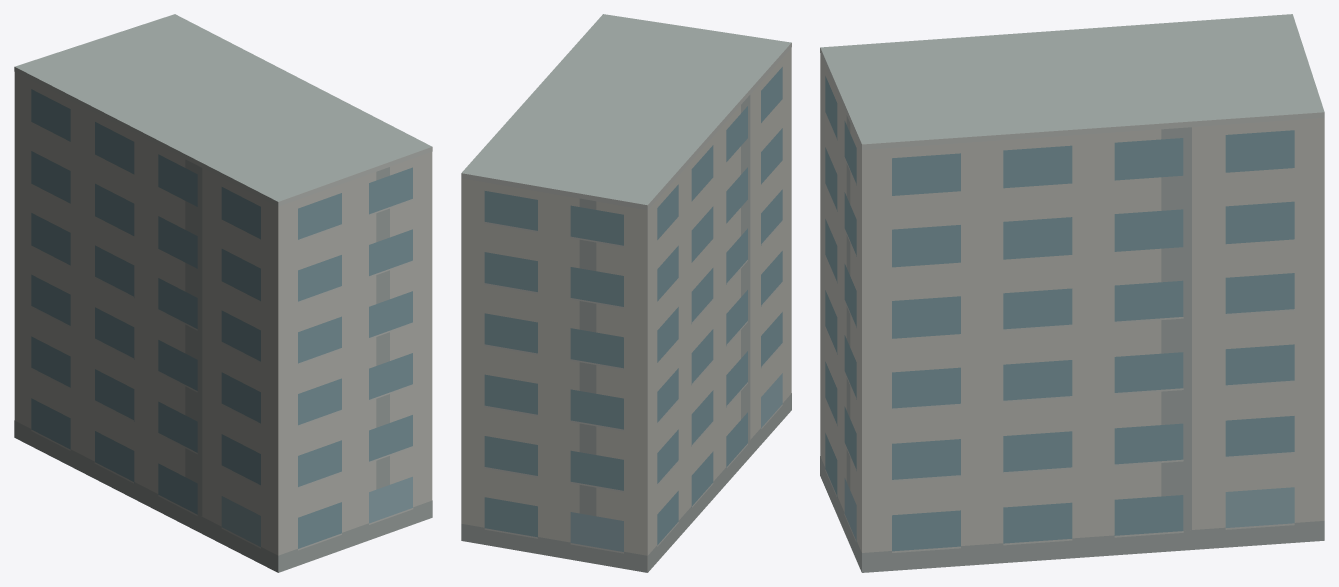
The model's file is survey-upis-32574427.glb.
The picture shows the model from 3 angles, left to right: view 1: azimuth 30°, elevation 25°; view 2: azimuth 150°, elevation 25°; view 3: azimuth 270°, elevation 25°; orthographic projection. The views are drawn at different scales.
Visible parts, largest first — view 1: survey-upis-32574427.tmp; view 2: survey-upis-32574427.tmp; view 3: survey-upis-32574427.tmp.
Part boxes in pixels (x1=…): survey-upis-32574427.tmp: x1=14, y1=14, x2=432, y2=572; survey-upis-32574427.tmp: x1=461, y1=14, x2=791, y2=572; survey-upis-32574427.tmp: x1=820, y1=14, x2=1324, y2=572.
Size of the model in its own units: 11.96 by 18.3 by 19.54.
